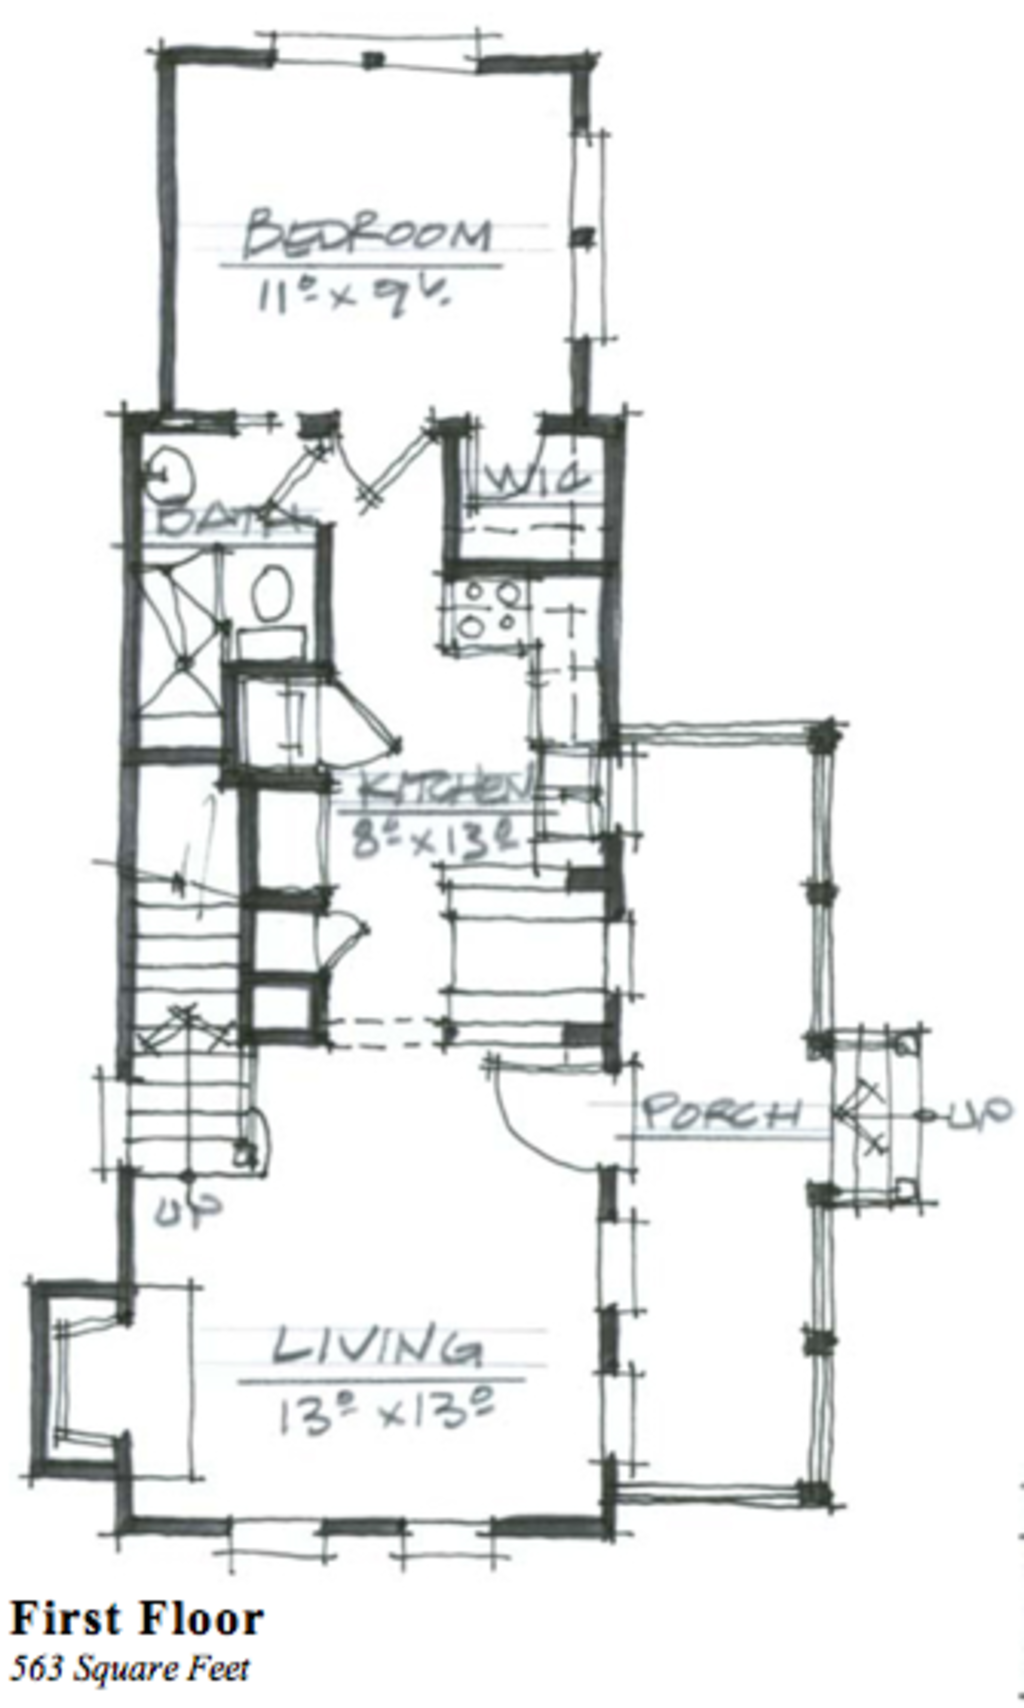bedroom has a bathroom and a walk in closet: (107, 39, 630, 561)
kitchen is with kitchen bar and cooking facility: (318, 557, 612, 1066)
there is a front porch with entry door: (614, 717, 958, 1519)
